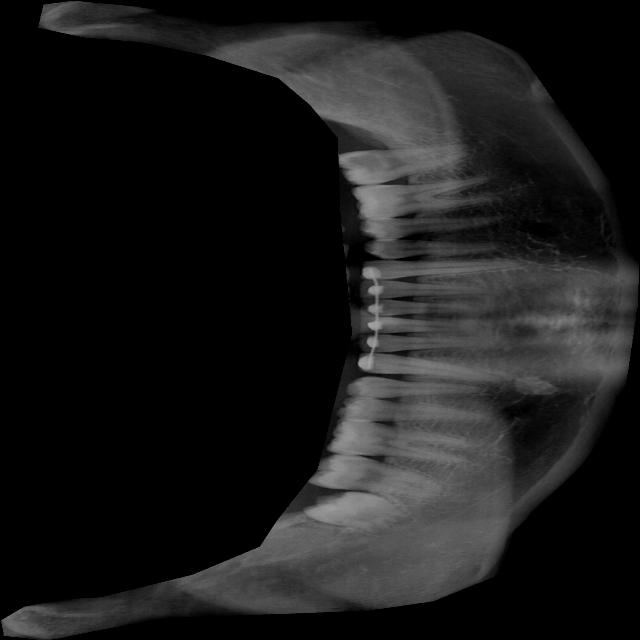mandibula: (1, 0, 640, 640)
